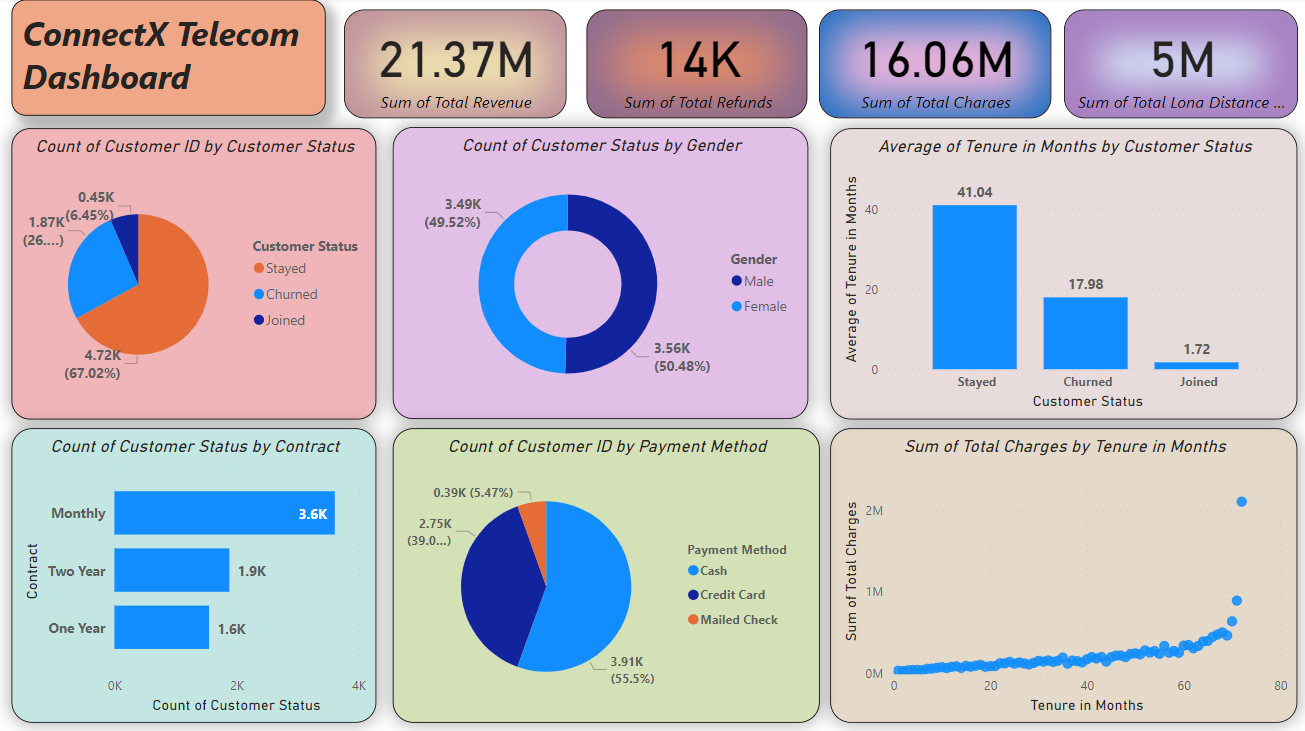

What the dashboard file says about the page in this screenshot:
{"tool":"powerbi","page":{"name":"Page 1","canvas":[1280,720],"ordinal":0},"visuals":[{"type":"textbox","box":[12.3,2.7,307.4,113.9],"z":0},{"type":"card","fields":{"Values":["Sum(Details.Total Revenue)"]},"box":[337.4,12.2,217.6,106.3],"z":1000},{"type":"card","fields":{"Values":["Sum(Details.Total Refunds)"]},"box":[574.5,12.2,216.4,106.3],"z":2000},{"type":"pieChart","fields":{"Category":["Details.Customer Status"],"Y":["CountNonNull(Details.Customer ID)"]},"box":[12.1,127.8,357,284.6],"z":3000},{"type":"donutChart","fields":{"Category":["Details.Gender"],"Y":["CountNonNull(Details.Customer Status)"]},"box":[384.7,126.6,406.4,285.8],"z":4000},{"type":"columnChart","fields":{"Category":["Details.Customer Status"],"Y":["Avg(Details.Tenure in Months)"]},"box":[812.9,127.8,457.1,284.6],"z":5000},{"type":"barChart","fields":{"Category":["Details.Contract"],"Y":["CountNonNull(Details.Customer Status)"]},"box":[12.1,422.1,357,288.2],"z":6000},{"type":"scatterChart","fields":{"X":["Details.Tenure in Months"],"Y":["Sum(Details.Total Charges)"]},"box":[812.9,422.1,457.1,288.2],"z":7000},{"type":"columnChart","fields":{"Category":["Details.Payment Method"],"Y":["CountNonNull(Details.Customer ID)"]},"box":[384.7,422.1,417.3,288.2],"z":8000},{"type":"card","fields":{"Values":["Sum(Details.Total Charges)"]},"box":[801.9,12.2,227.4,106.3],"z":9000},{"type":"card","fields":{"Values":["Sum(Details.Total Long Distance Charges)"]},"box":[1041.5,12.2,228.6,106.3],"z":10000}]}

Visuals, with their boxes in screenshot pixels (x1, y1, x2, y2), scaled from the page's 1280x720 canvas onto the 1305x731 screenshot:
textbox: l=13, t=3, r=326, b=118
card - Sum(Details.Total Revenue): l=344, t=12, r=566, b=120
card - Sum(Details.Total Refunds): l=586, t=12, r=806, b=120
pieChart - Details.Customer Status x CountNonNull(Details.Customer ID): l=12, t=130, r=376, b=419
donutChart - Details.Gender x CountNonNull(Details.Customer Status): l=392, t=129, r=807, b=419
columnChart - Details.Customer Status x Avg(Details.Tenure in Months): l=829, t=130, r=1295, b=419
barChart - Details.Contract x CountNonNull(Details.Customer Status): l=12, t=429, r=376, b=721
scatterChart - Details.Tenure in Months x Sum(Details.Total Charges): l=829, t=429, r=1295, b=721
columnChart - Details.Payment Method x CountNonNull(Details.Customer ID): l=392, t=429, r=818, b=721
card - Sum(Details.Total Charges): l=818, t=12, r=1049, b=120
card - Sum(Details.Total Long Distance Charges): l=1062, t=12, r=1295, b=120
